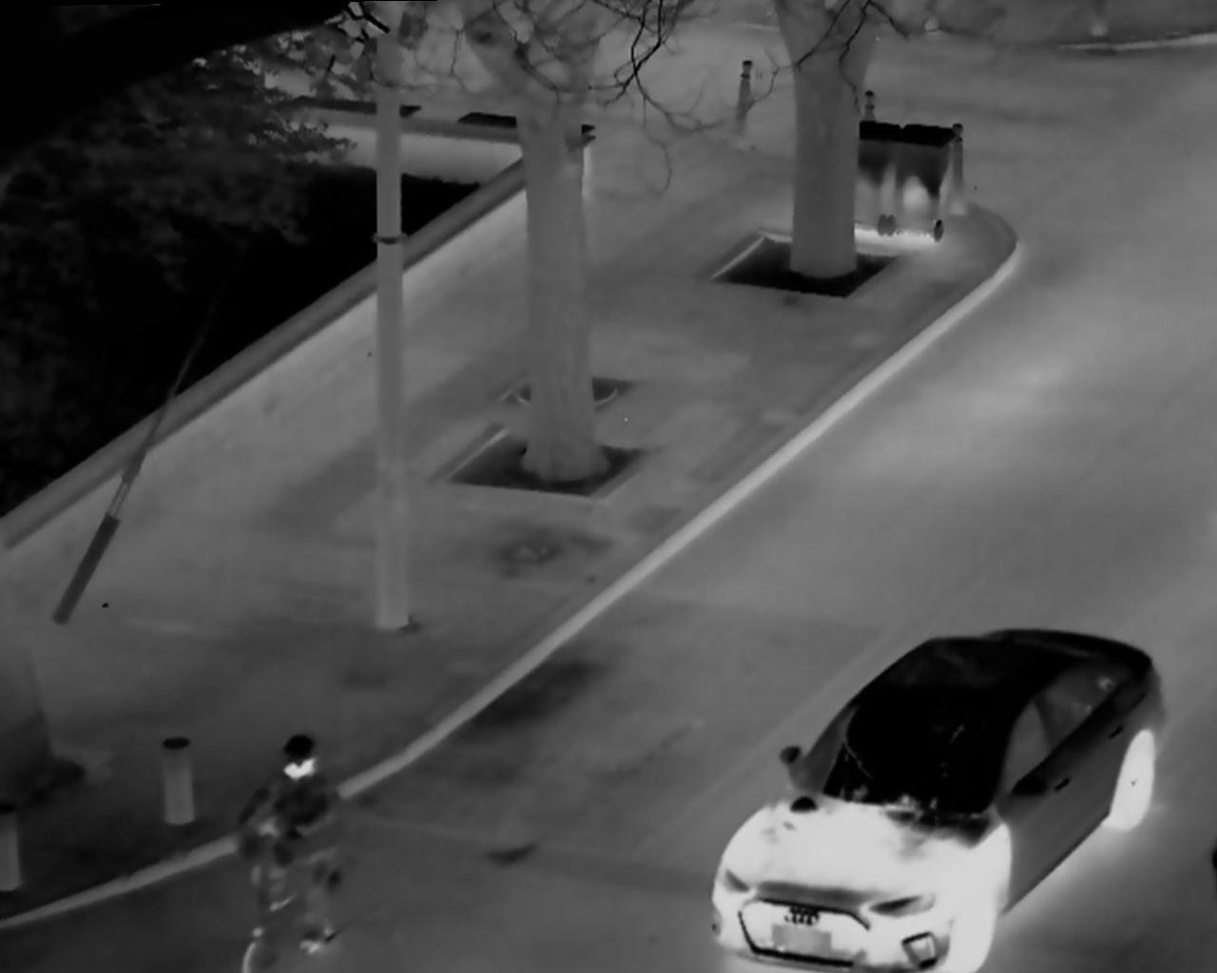person: (235, 725, 345, 955)
